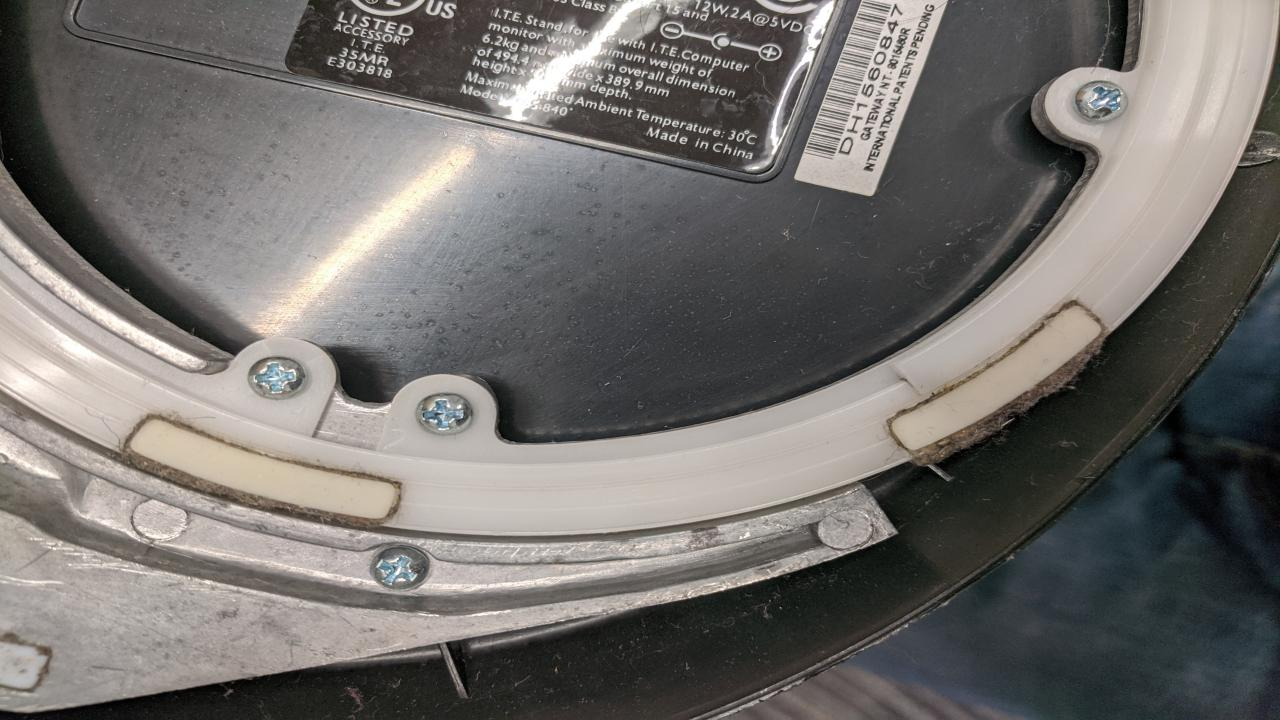CRS: (369, 544, 432, 590), (421, 392, 475, 434), (247, 358, 304, 397), (1079, 80, 1126, 122)
